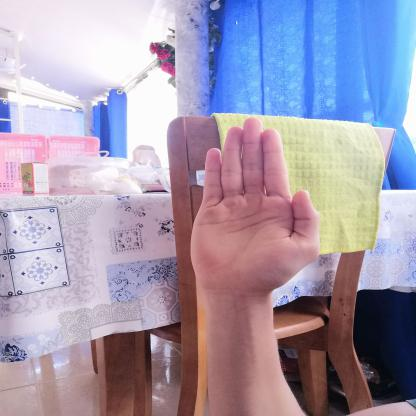SEEN: (176, 110, 326, 300)
